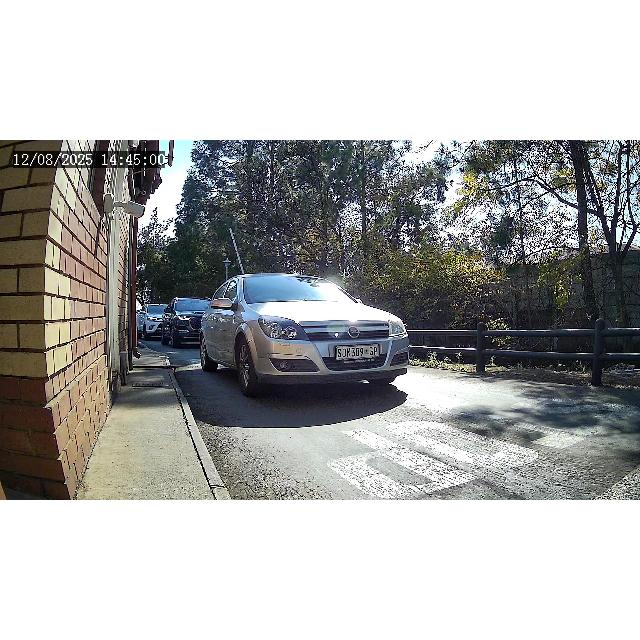car: (199, 274, 411, 398), (160, 298, 210, 348), (134, 304, 166, 340)
plate: (332, 346, 382, 358)
